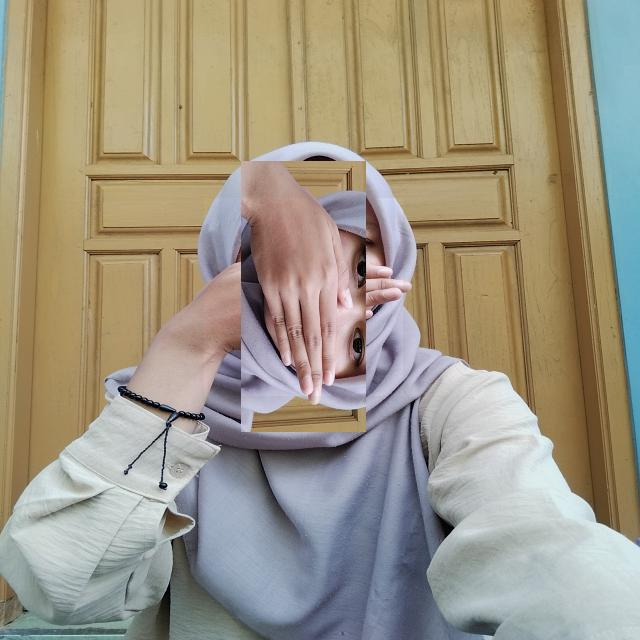buruk: (204, 198, 403, 396)
